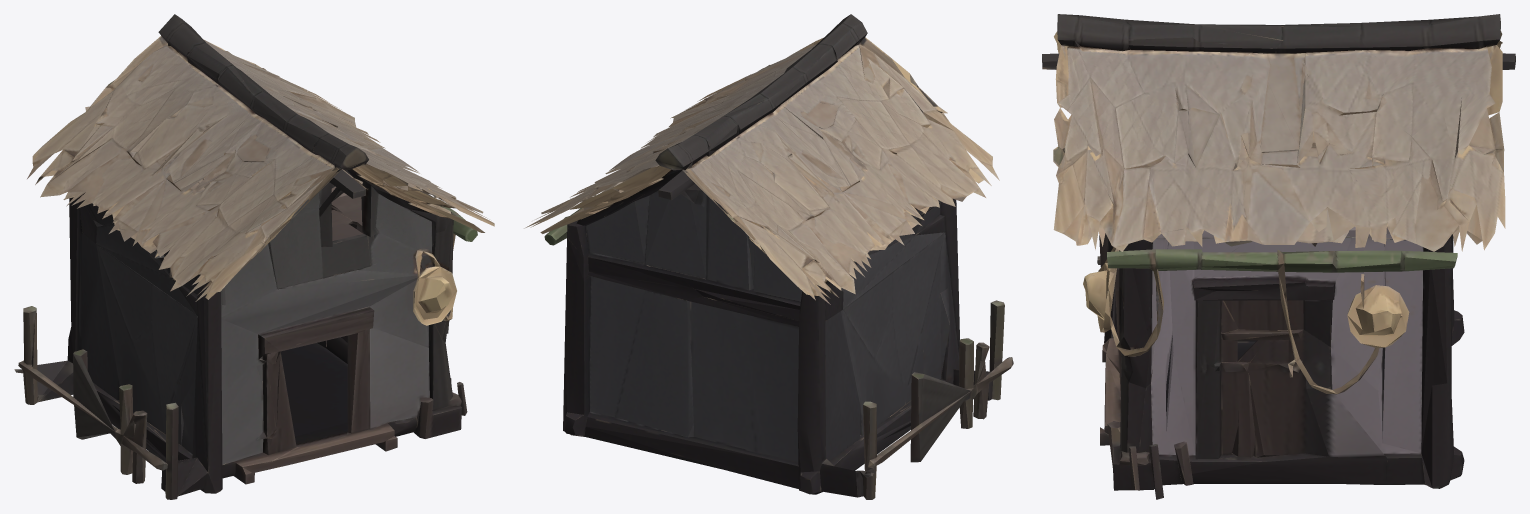
File: ninja_house.glb
The picture shows the model from 3 angles, left to right: view 1: azimuth 30°, elevation 25°; view 2: azimuth 150°, elevation 25°; view 3: azimuth 270°, elevation 25°; orthographic projection. The views are drawn at different scales.
Visible parts, largest first — view 1: ninja_house; view 2: ninja_house; view 3: ninja_house.
Part boxes in pixels (box(x1,y1,x2,y2)): ninja_house: box(14, 14, 494, 499); ninja_house: box(524, 14, 1013, 499); ninja_house: box(1042, 14, 1515, 499).
Bounding box in the file's own units: 6.85 × 6.5 × 6.89.
Materials: 1 (1 with a texture image).
